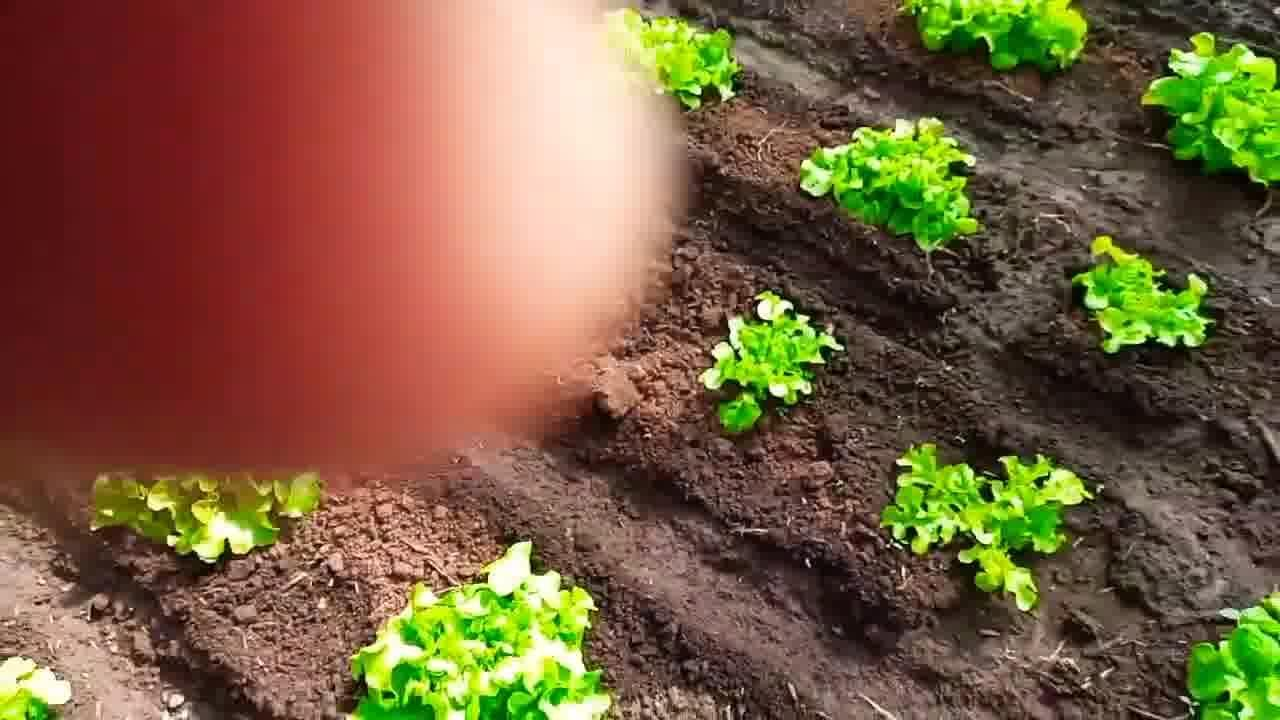Healthy: (338, 529, 618, 715), (870, 428, 1102, 595), (89, 466, 322, 572), (690, 283, 857, 429), (804, 120, 977, 250), (1065, 232, 1212, 367), (1148, 43, 1277, 181), (588, 8, 746, 102), (893, 0, 1089, 70), (1181, 583, 1280, 720)
